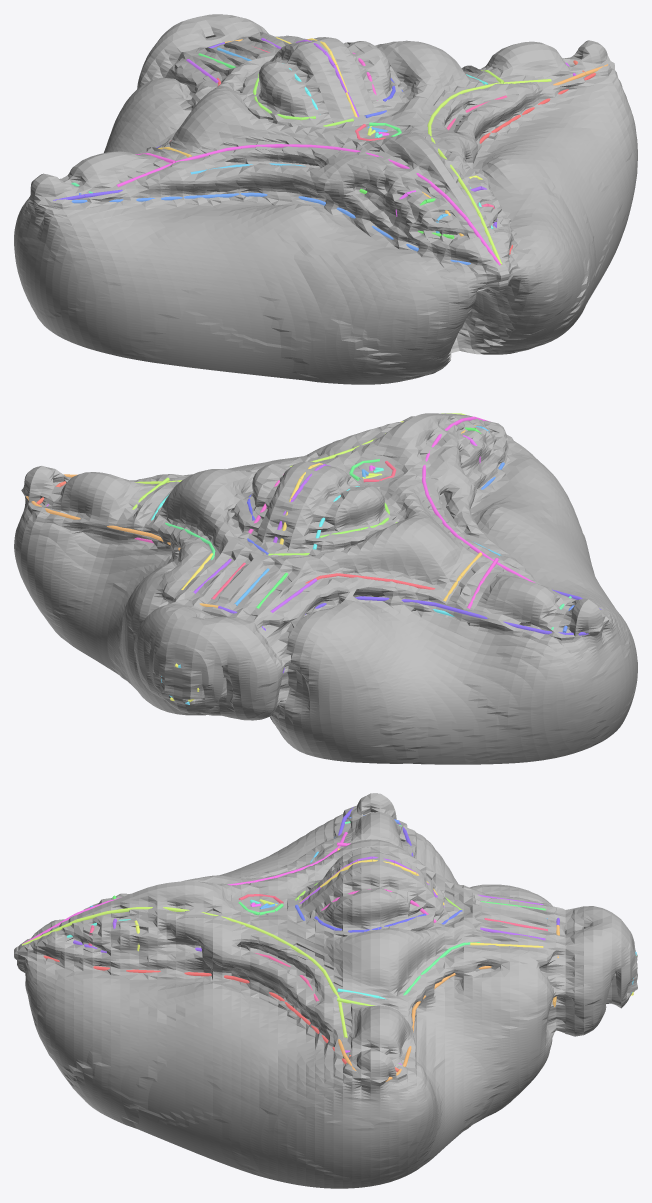
The model's file is author1_ship.gltf.
3 views of the same model, one above another, from view 1: azimuth 30°, elevation 25°; view 2: azimuth 150°, elevation 25°; view 3: azimuth 270°, elevation 25° (orthographic). The views are drawn at different scales.
Bounding box in the file's own units: 0.7288 × 0.2484 × 0.6909.
